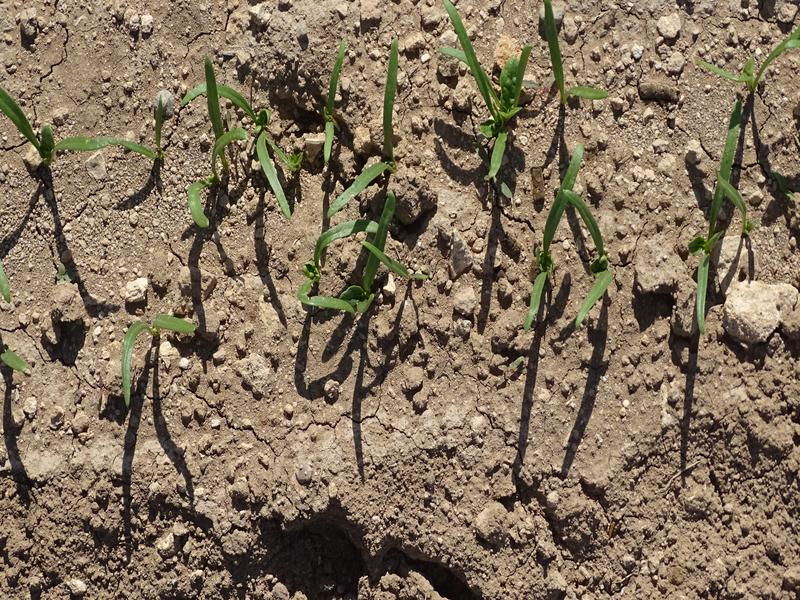Espinaca: (318, 39, 404, 328), (190, 65, 303, 223), (529, 142, 616, 325), (439, 11, 527, 173), (693, 99, 750, 339), (4, 91, 163, 167), (116, 311, 197, 402), (543, 3, 606, 109), (705, 32, 790, 91)
